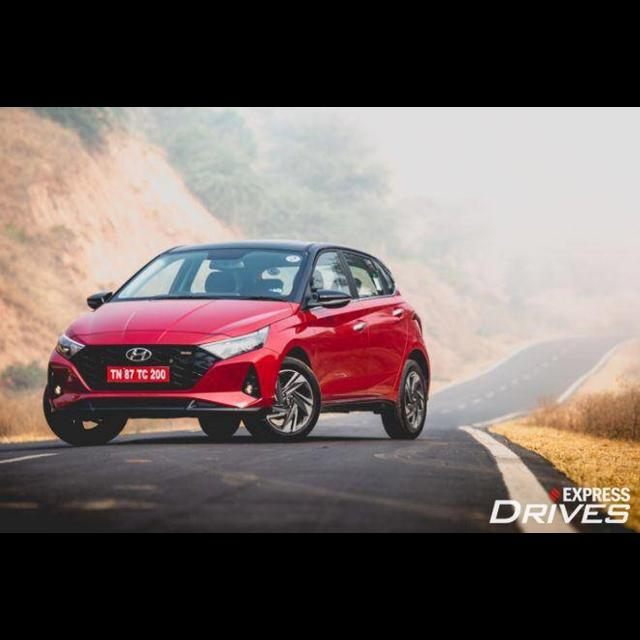vehicles: (40, 242, 432, 448)
